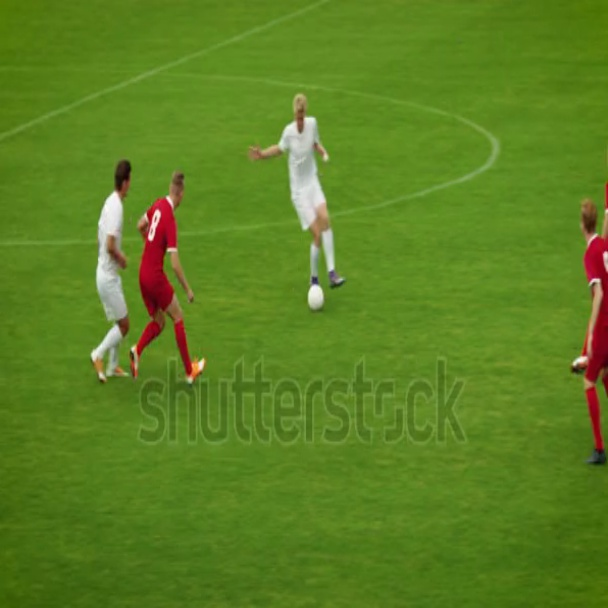ball: (309, 281, 326, 316)
